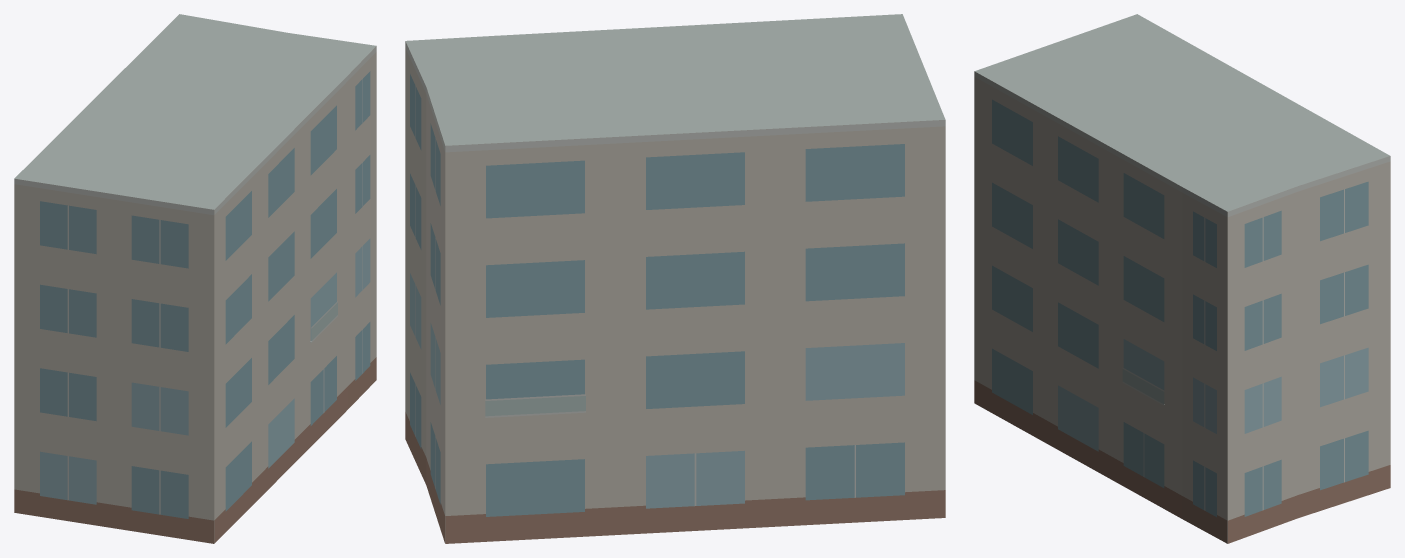
Rendered from survey-upis-33014004.glb.
3 views of the same model, side by side, from view 1: azimuth 30°, elevation 25°; view 2: azimuth 150°, elevation 25°; view 3: azimuth 270°, elevation 25° (orthographic). The views are drawn at different scales.
Parts seen in each view (by area): view 1: survey-upis-33014004.tmp; view 2: survey-upis-33014004.tmp; view 3: survey-upis-33014004.tmp.
Part boxes in pixels (x1=…): survey-upis-33014004.tmp: x1=14, y1=14, x2=376, y2=543; survey-upis-33014004.tmp: x1=405, y1=14, x2=945, y2=543; survey-upis-33014004.tmp: x1=974, y1=14, x2=1390, y2=543.
Size of the model in its own units: 18.92 by 14.8 by 16.82.
